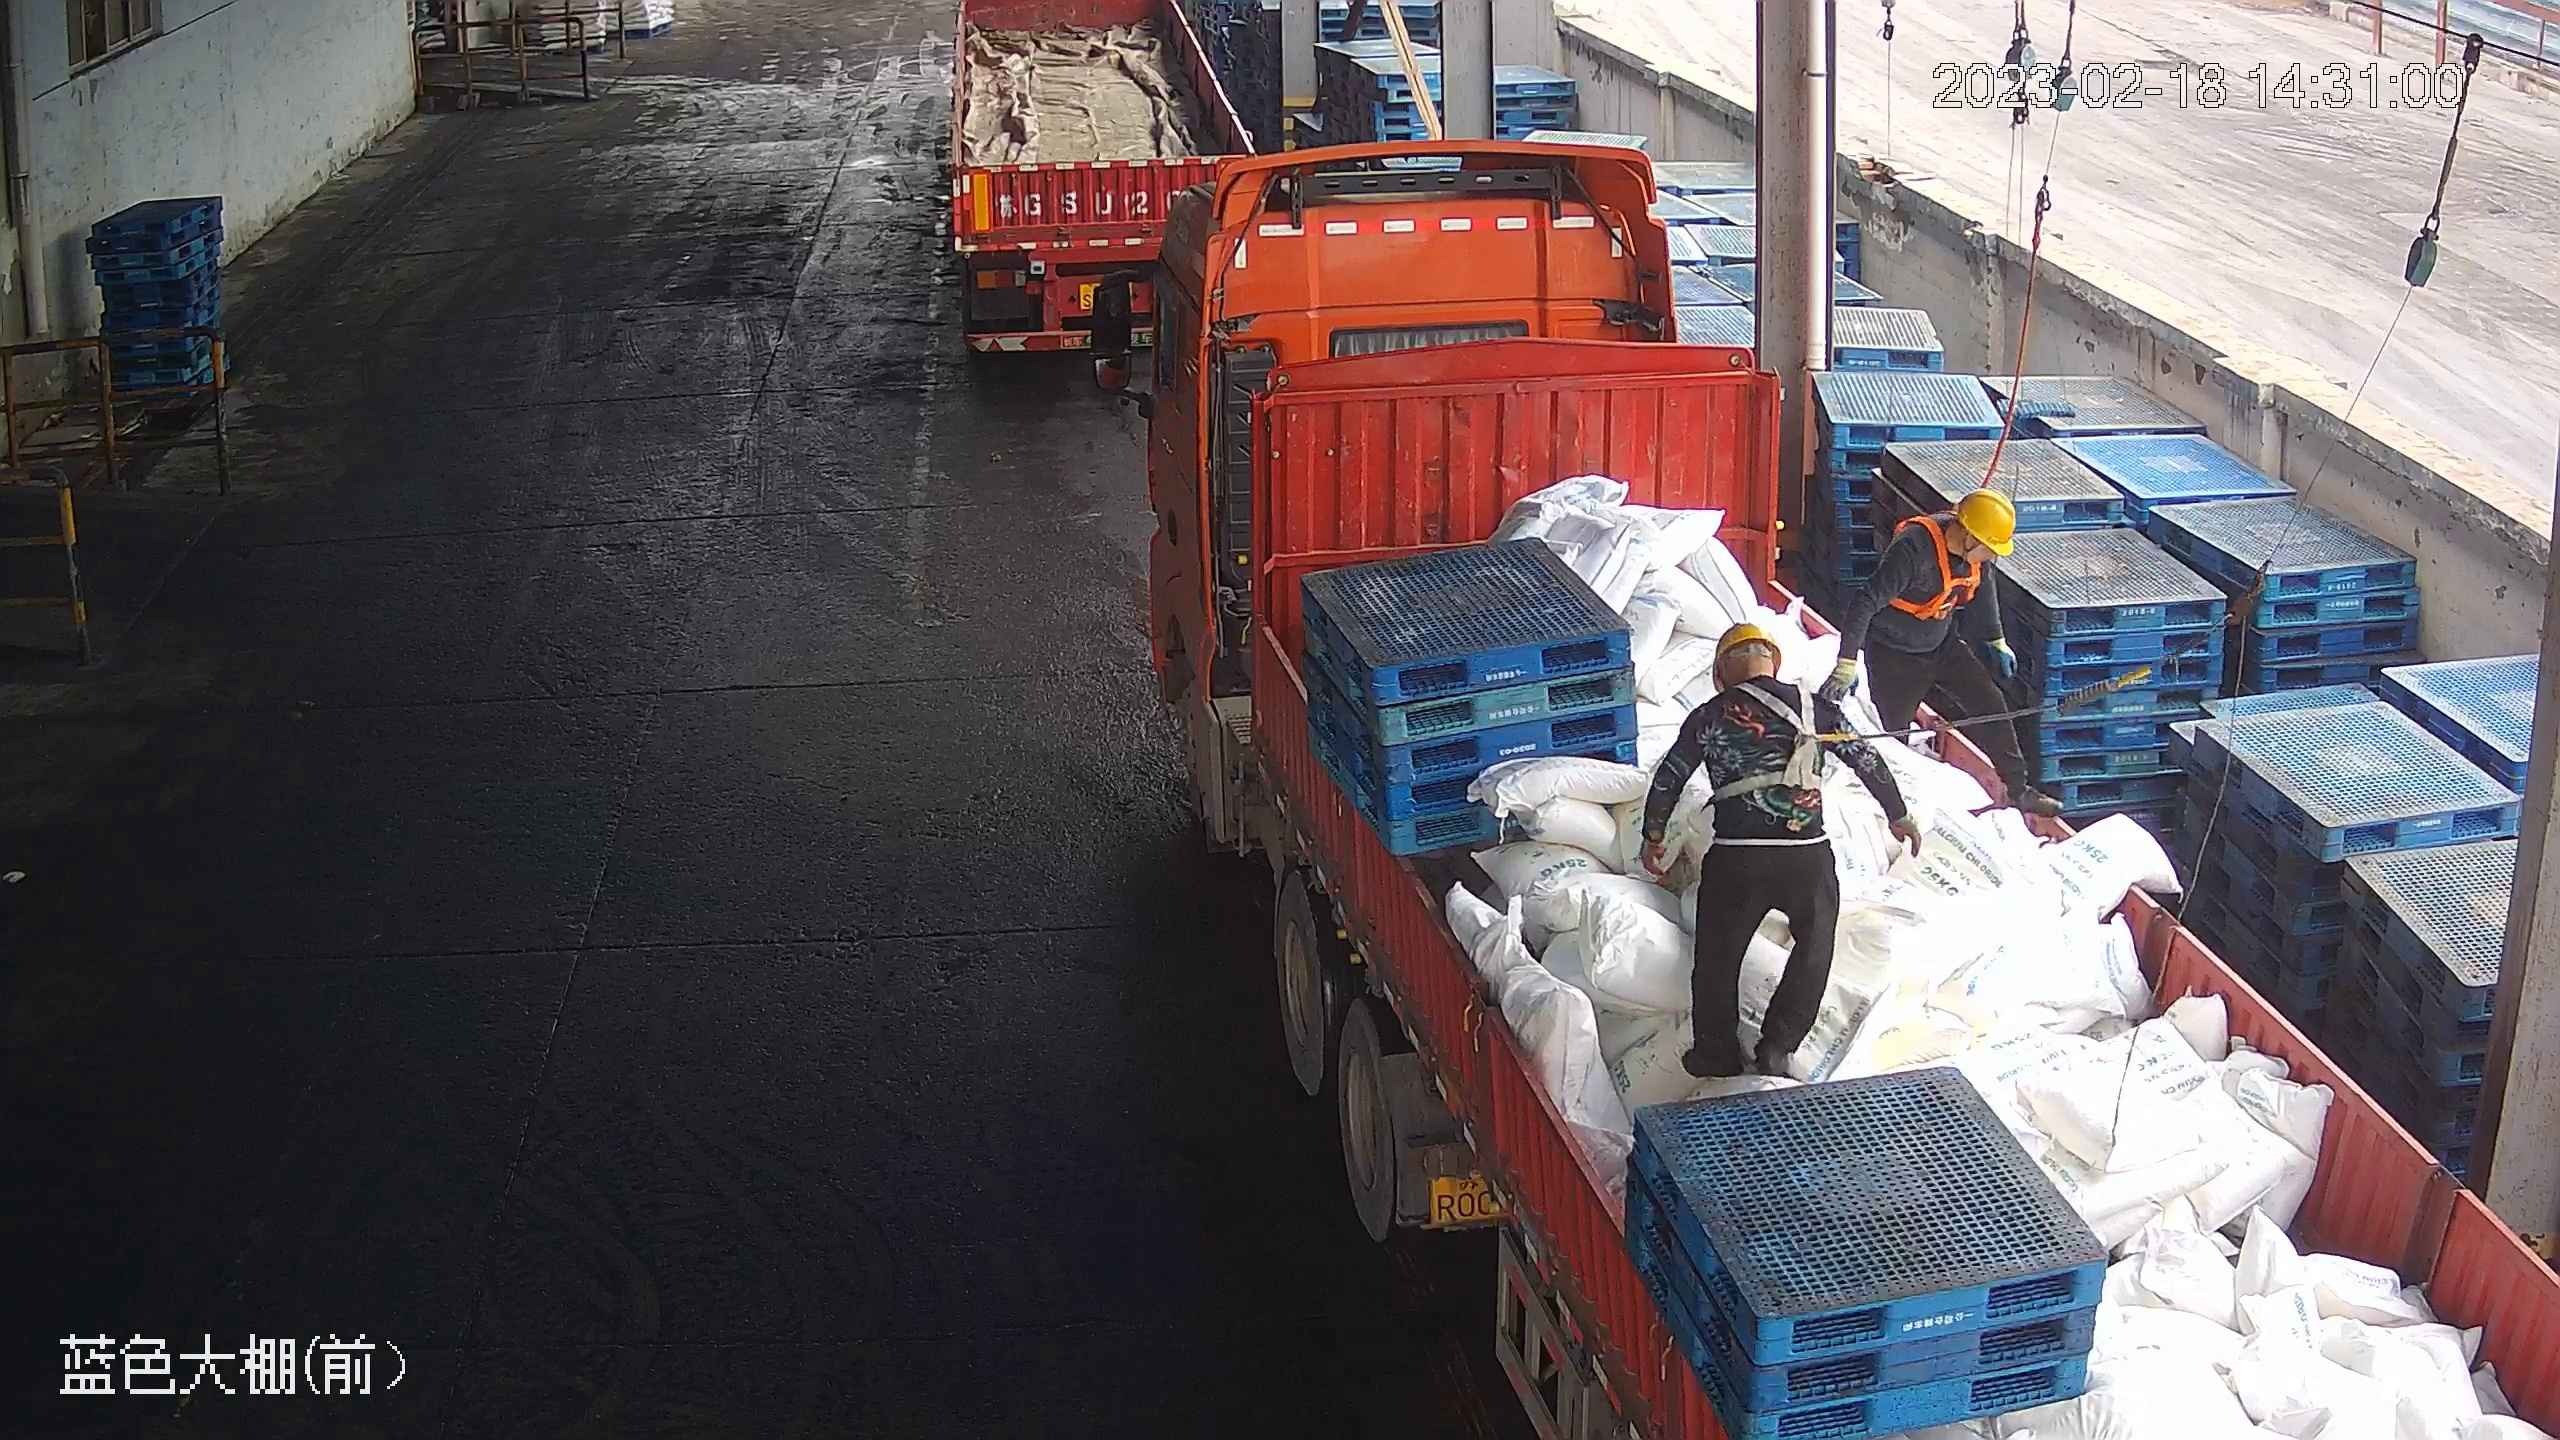belt: (1728, 678, 1843, 801), (1889, 511, 1988, 622)
head: (1680, 618, 1819, 744), (1880, 485, 2018, 604)
helmet: (1951, 483, 2020, 556), (1710, 619, 1785, 672)
people: (1637, 613, 1859, 1078), (1835, 482, 2025, 798)
truck: (1081, 165, 2521, 1422), (934, 1, 1268, 369)
